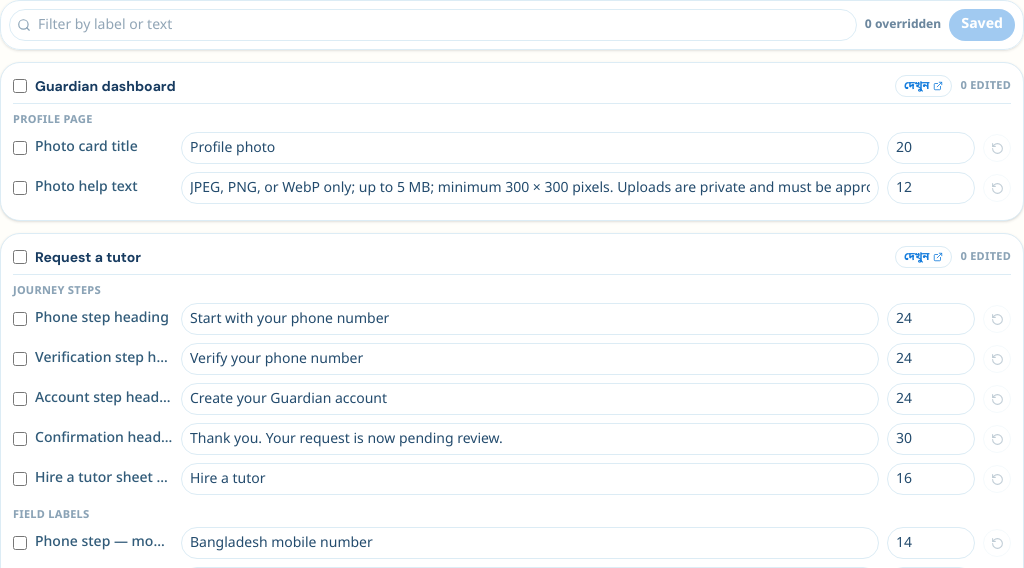
Test: Site content editor bulk actions › ticks and clears a whole surface from its heading
Click the checkbox named "Select every row under Request a tutor": coordinates (20, 257) [13,250,27,264]
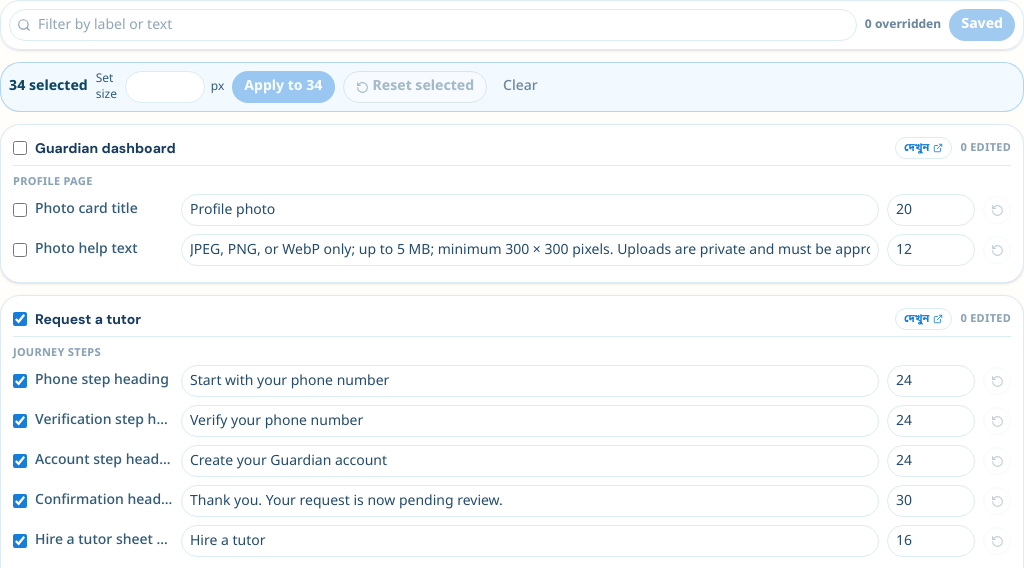
Click the checkbox named "Select every row under Request a tutor": coordinates (20, 319) [13,312,27,326]
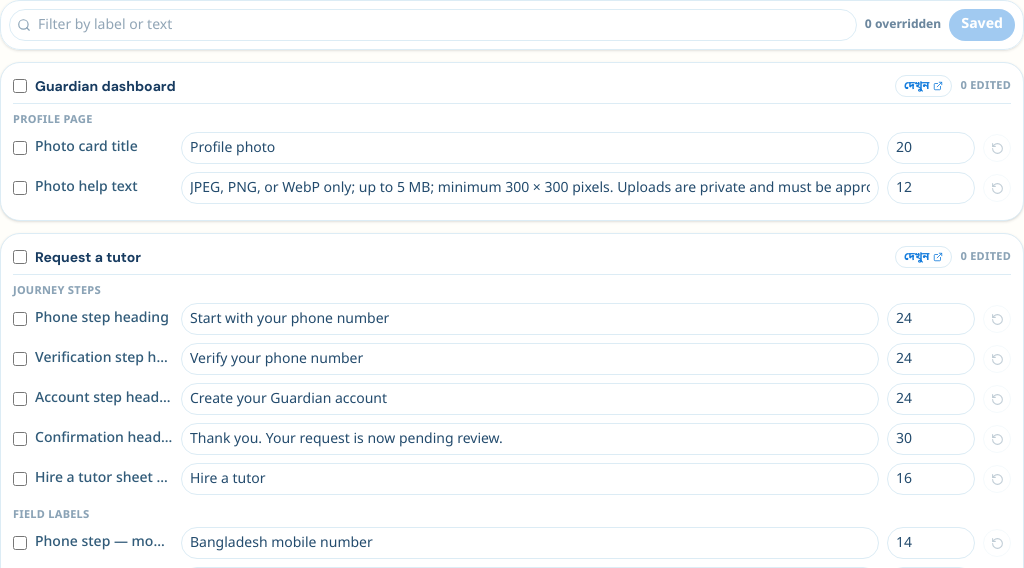
Check: the text "34 selected" is gone
